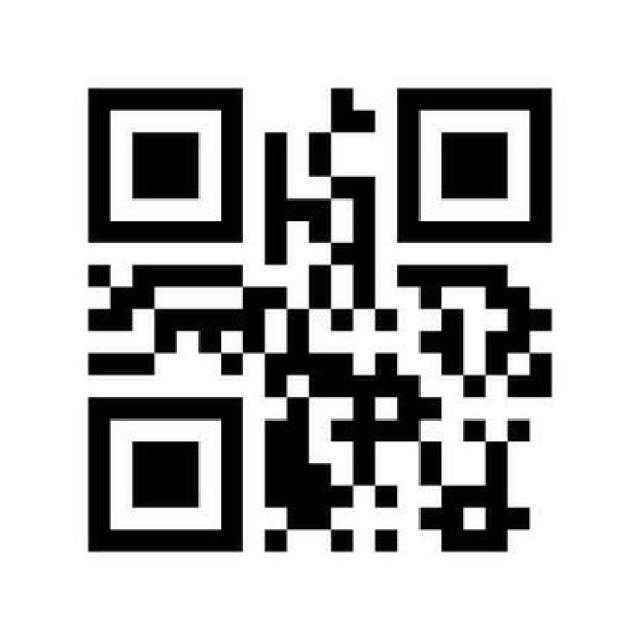QRCode: (77, 67, 563, 577)
